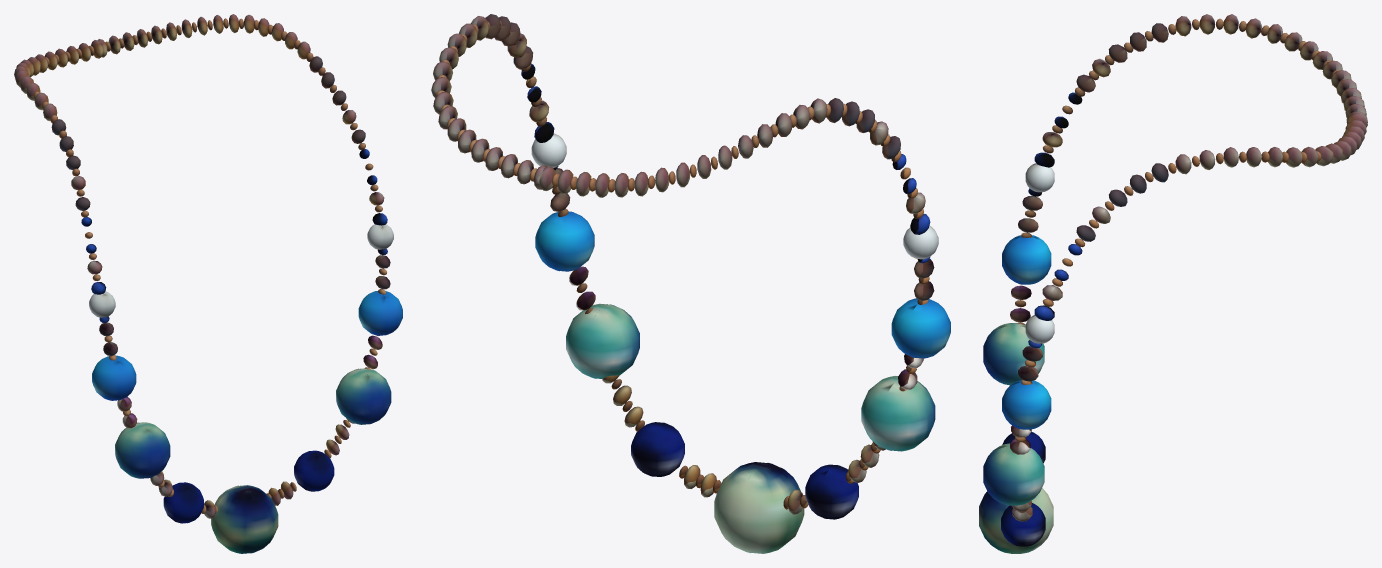
File: Collar 3.fbx
The picture shows the model from 3 angles, left to right: view 1: azimuth 30°, elevation 25°; view 2: azimuth 150°, elevation 25°; view 3: azimuth 270°, elevation 25°; orthographic projection. The views are drawn at different scales.
Visible parts, largest first — view 1: Icosphere_002_necklace._blue_0; view 2: Icosphere_002_necklace._blue_0; view 3: Icosphere_002_necklace._blue_0.
Boxes of the visible parts, bbox=[...] form: Icosphere_002_necklace._blue_0: bbox=[14, 14, 402, 553]; Icosphere_002_necklace._blue_0: bbox=[431, 14, 950, 553]; Icosphere_002_necklace._blue_0: bbox=[979, 14, 1367, 553].
Size of the model in its own units: 112 by 149 by 111.
Materials: 1 (1 with a texture image).
